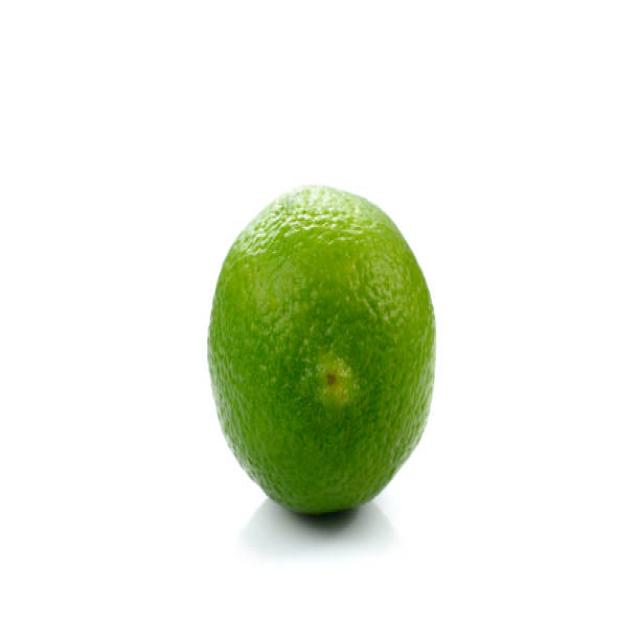Unripe: (208, 182, 438, 520)
